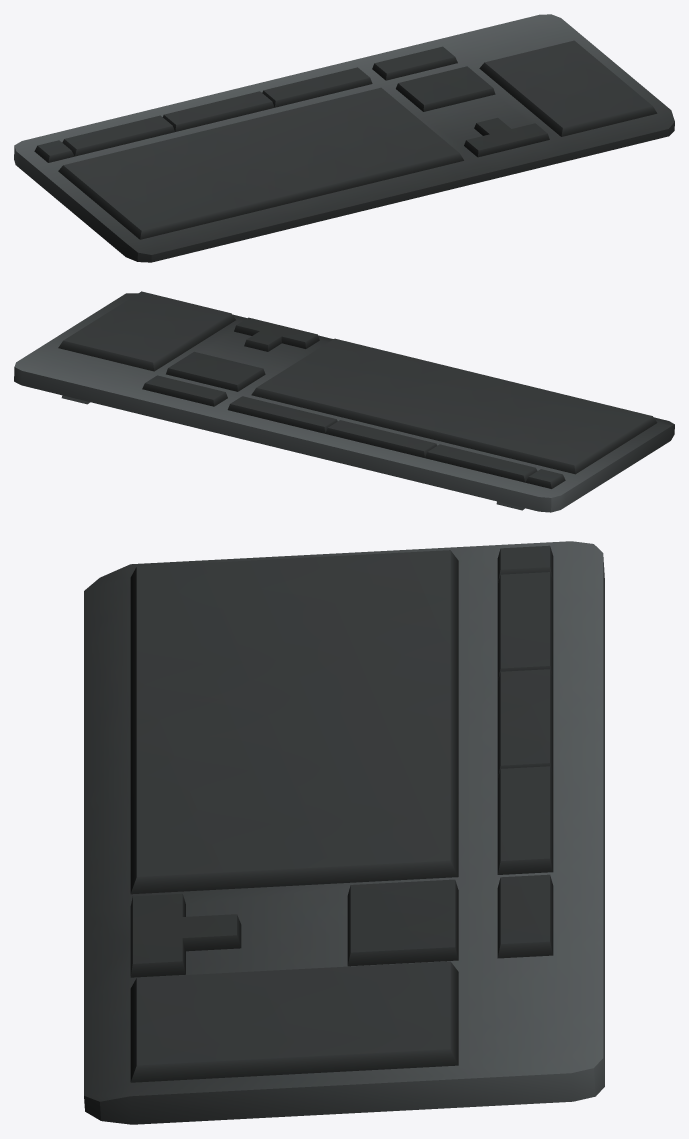
The model's file is ComputerKeyboard.fbx.
3 views of the same model, one above another, from view 1: azimuth 30°, elevation 25°; view 2: azimuth 150°, elevation 25°; view 3: azimuth 270°, elevation 25° (orthographic). The views are drawn at different scales.
Parts seen in each view (by area): view 1: ComputerKeyboard; view 2: ComputerKeyboard; view 3: ComputerKeyboard.
Boxes of the visible parts, <box> form: ComputerKeyboard: <box>14,14,674,262</box>; ComputerKeyboard: <box>14,291,674,512</box>; ComputerKeyboard: <box>84,541,604,1124</box>.
Bounding box in the file's own units: 47.29 × 2.61 × 19.58.
